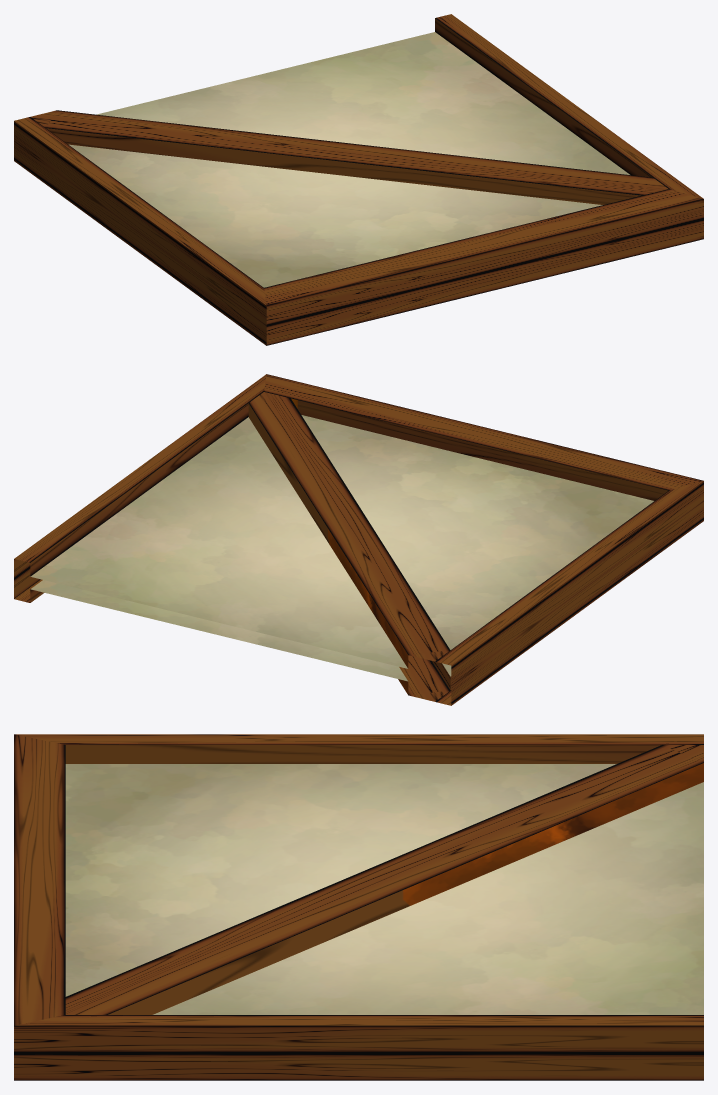
The model's file is MTile_04.fbx.
The picture shows the model from 3 angles, top to bottom: view 1: azimuth 30°, elevation 25°; view 2: azimuth 150°, elevation 25°; view 3: azimuth 270°, elevation 25°; orthographic projection. The views are drawn at different scales.
Visible parts, largest first — view 1: MTile_04; view 2: MTile_04; view 3: MTile_04.
Part boxes in pixels (left/top/right/bottom): MTile_04: left=14, top=14, right=703, bottom=345; MTile_04: left=14, top=374, right=703, bottom=705; MTile_04: left=14, top=734, right=703, bottom=1080.
Bounding box in the file's own units: 255 × 22.41 × 255.
